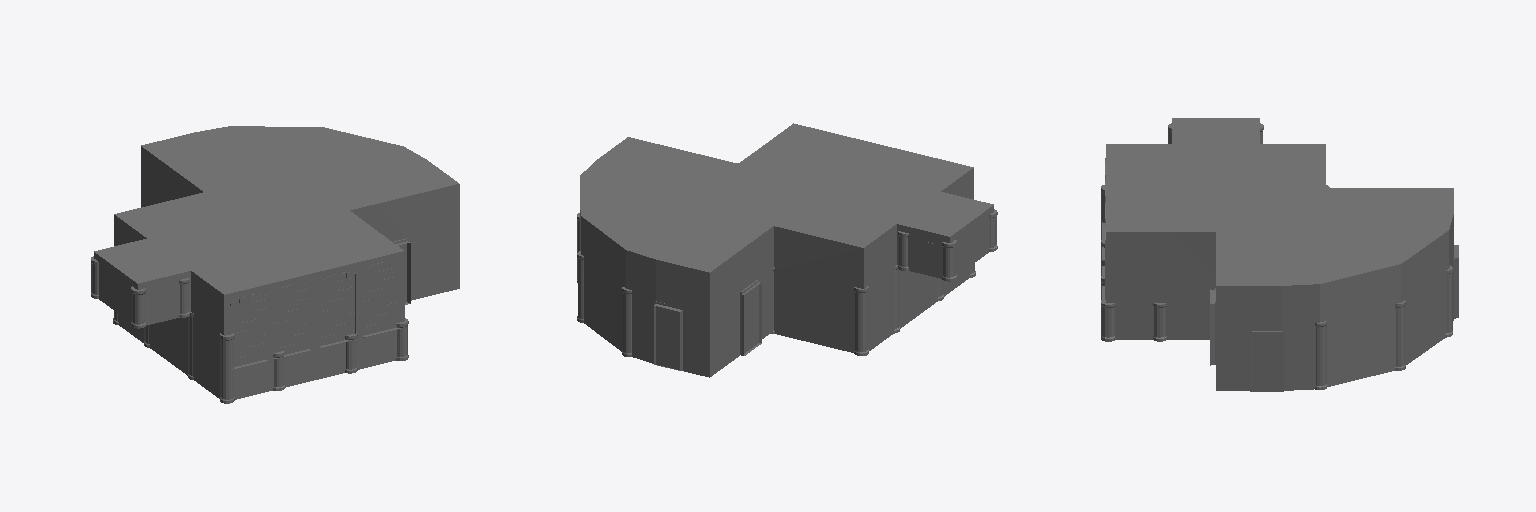
File: Library001.obj
The picture shows the model from 3 angles: view 1: azimuth 30°, elevation 25°; view 2: azimuth 150°, elevation 25°; view 3: azimuth 270°, elevation 25°; orthographic projection.
Parts seen in each view (by area): view 1: polySurface73 pCube19 polySurface76, BookshelfColumnSmall:polySurface8 BookshelfColumnSmall:polySurfa, BookshelfColumn_001:polySurface3 BookshelfColumn_001:polySurface; view 2: polySurface73 pCube19 polySurface76, BookshelfColumn_001:polySurface3 BookshelfColumn_001:polySurface, polySurface74 polySurface73 pCube19, BookshelfShelves_001:polySurface7 BookshelfShelves_001:polySurfa, BookshelfColumnSmall:polySurface8 BookshelfColumnSmall:polySurfa, polySurface73 pCube19 polySurface75; view 3: polySurface73 pCube19 polySurface76, polySurface73 pCube19 polySurface84, BookshelfColumn_001:polySurface3 BookshelfColumn_001:polySurface, BookshelfShelves_001:polySurface7 BookshelfShelves_001:polySurfa, BookshelfColumnSmall:polySurface8 BookshelfColumnSmall:polySurfa.
Part boxes in pixels (x1,y1,x2,y2): polySurface73 pCube19 polySurface76: (94,126,459,399); BookshelfColumnSmall:polySurface8 BookshelfColumnSmall:polySurfa: (91,256,408,390); BookshelfColumn_001:polySurface3 BookshelfColumn_001:polySurface: (113,311,234,403); polySurface73 pCube19 polySurface76: (580,123,993,377); BookshelfColumn_001:polySurface3 BookshelfColumn_001:polySurface: (577,213,975,356); polySurface74 polySurface73 pCube19: (654,301,682,369); BookshelfShelves_001:polySurface7 BookshelfShelves_001:polySurfa: (584,238,942,322); BookshelfColumnSmall:polySurface8 BookshelfColumnSmall:polySurfa: (898,209,997,281); polySurface73 pCube19 polySurface75: (740,280,758,355); polySurface73 pCube19 polySurface76: (1106,118,1458,390); polySurface73 pCube19 polySurface84: (1250,328,1283,391); BookshelfColumn_001:polySurface3 BookshelfColumn_001:polySurface: (1101,185,1452,389); BookshelfShelves_001:polySurface7 BookshelfShelves_001:polySurfa: (1115,301,1409,362); BookshelfColumnSmall:polySurface8 BookshelfColumnSmall:polySurfa: (1101,123,1263,341).
Bounding box in the file's own units: 1642 × 480 × 1447.